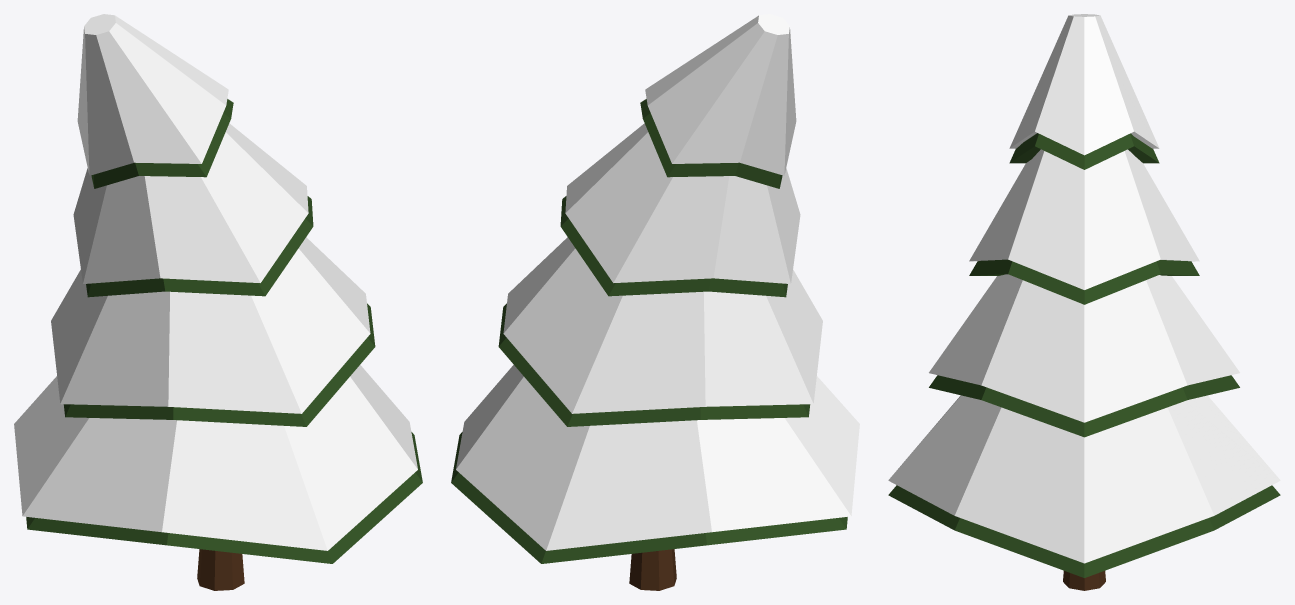
Rendered from SnowTreeType4.fbx.
The picture shows the model from 3 angles, left to right: view 1: azimuth 30°, elevation 25°; view 2: azimuth 150°, elevation 25°; view 3: azimuth 270°, elevation 25°; orthographic projection. The views are drawn at different scales.
Visible parts, largest first — view 1: Cylinder.003; view 2: Cylinder.003; view 3: Cylinder.003.
Part boxes in pixels (x1,y1,x2,y2): Cylinder.003: (14,14,422,590); Cylinder.003: (451,14,859,590); Cylinder.003: (888,14,1280,590).
Bounding box in the file's own units: 5.52 × 7.96 × 5.45.
